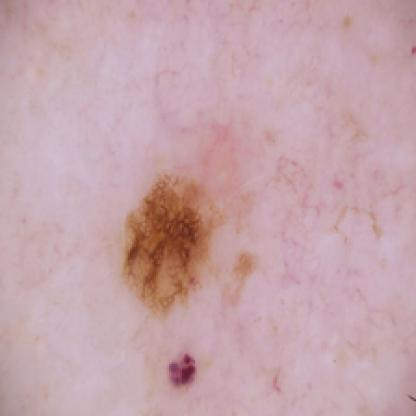benign: (126, 171, 225, 403)
